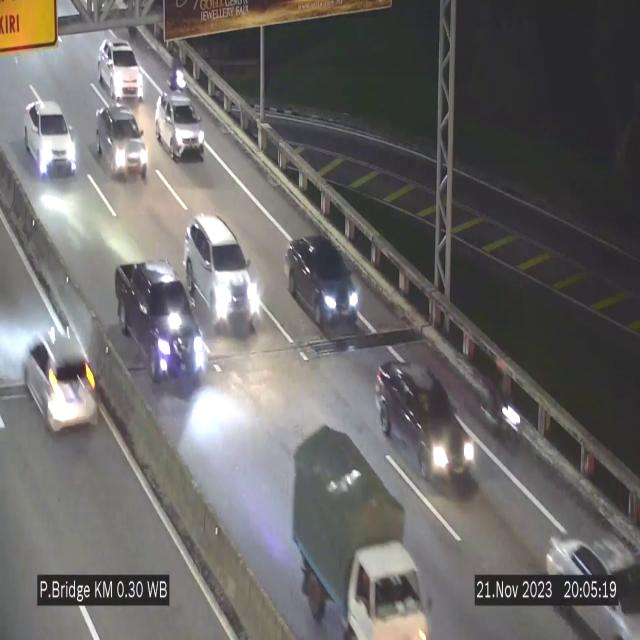Car: (536, 506, 639, 640), (376, 355, 476, 489), (110, 258, 208, 393), (21, 316, 104, 442), (184, 215, 260, 333), (286, 233, 362, 329), (24, 100, 78, 176), (96, 105, 146, 181), (155, 91, 205, 160), (99, 40, 143, 100)
Motorcycle: (485, 356, 524, 457), (169, 49, 187, 97)
Truck: (291, 424, 432, 640)
